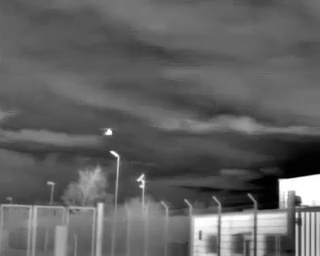HELICOPTER: (100, 124, 118, 140)
